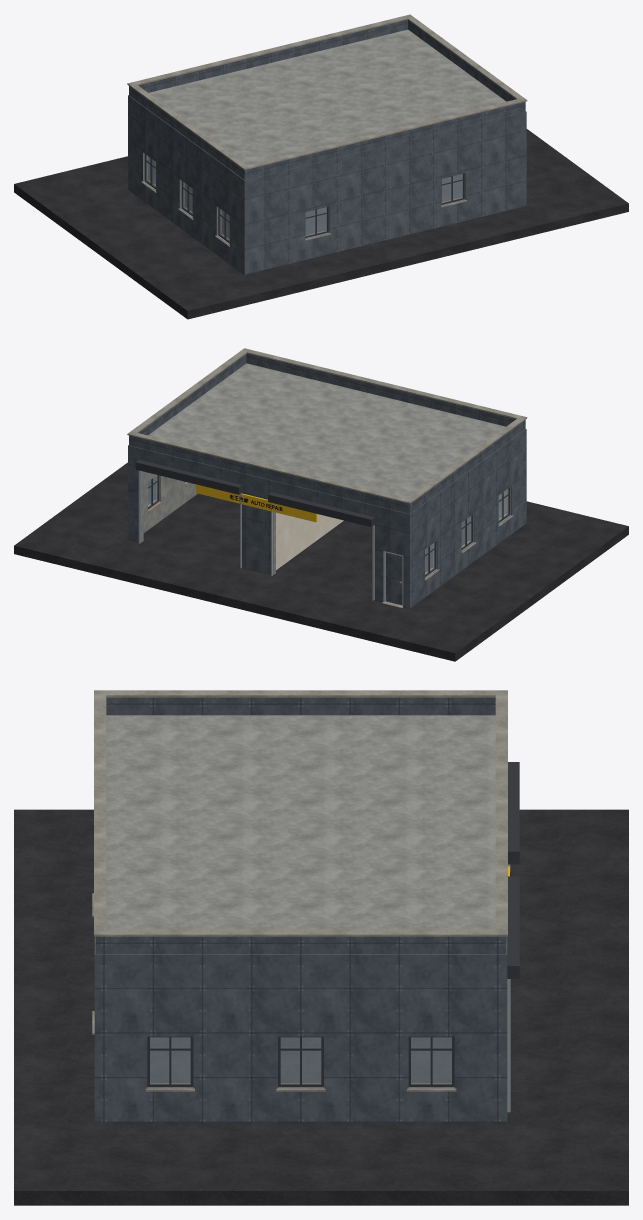
The model's file is b_auto_repair.gltf.
3 renders of one model, top to bottom at view 1: azimuth 30°, elevation 25°; view 2: azimuth 150°, elevation 25°; view 3: azimuth 270°, elevation 25°, orthographic. The views are drawn at different scales.
Visible parts, largest first — view 1: S_auto_repair; view 2: S_auto_repair, D_auto_repair_F1_S2_Door0; view 3: S_auto_repair.
Part boxes in pixels (x1,y1,x2,y2): S_auto_repair: (14,14,628,319); S_auto_repair: (14,348,628,661); D_auto_repair_F1_S2_Door0: (385,552,402,605); S_auto_repair: (14,690,628,1205).
Size of the model in its own units: 22 by 5.46 by 15.
Materials: 16 (7 with a texture image).
